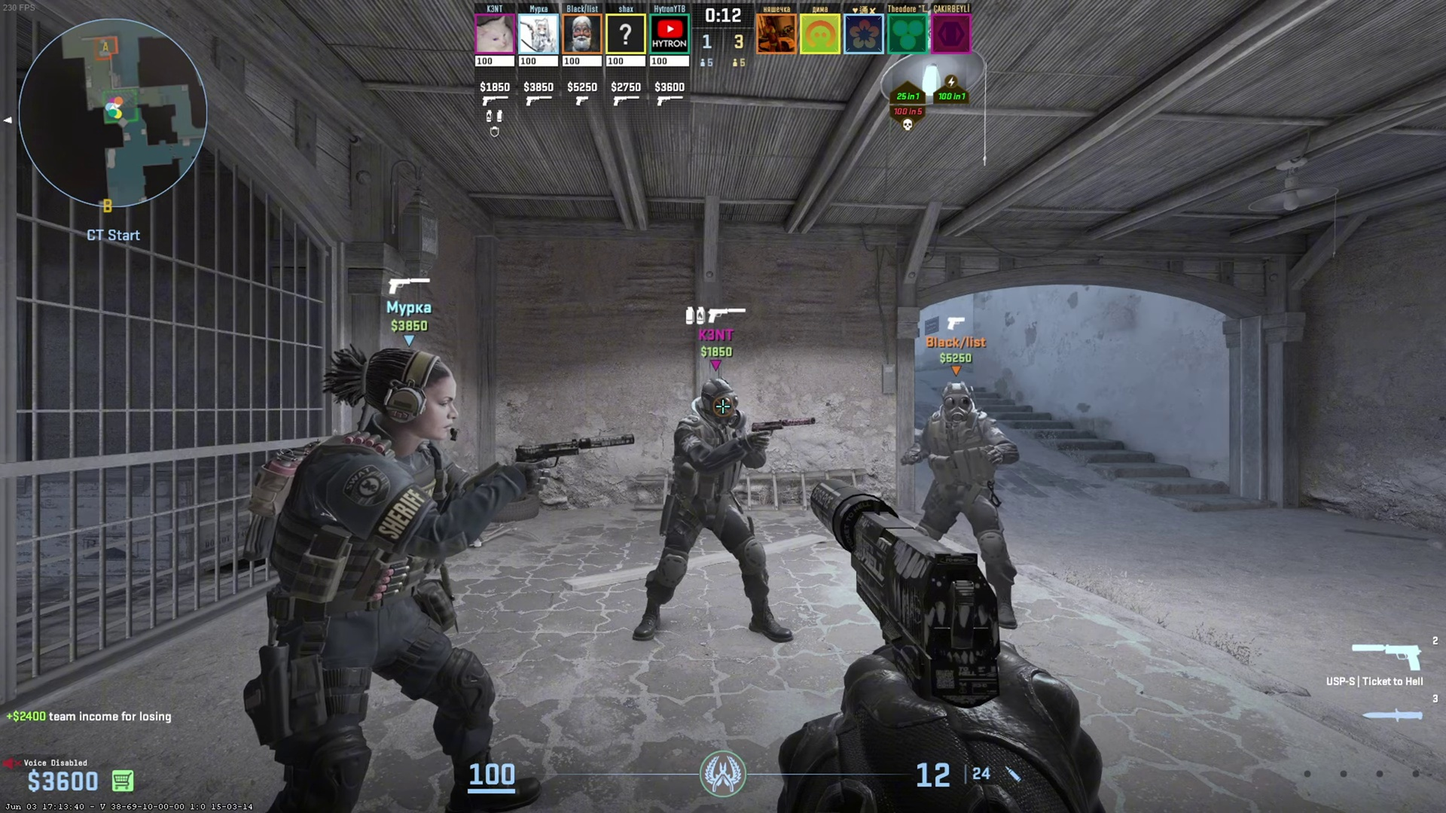CT: (269, 349, 537, 811), (635, 380, 793, 641), (913, 381, 1016, 628)
